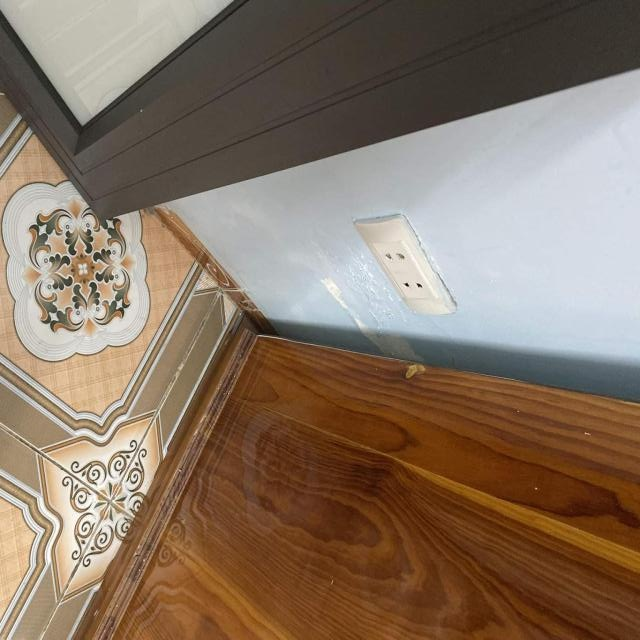outlet: (354, 214, 458, 314)
